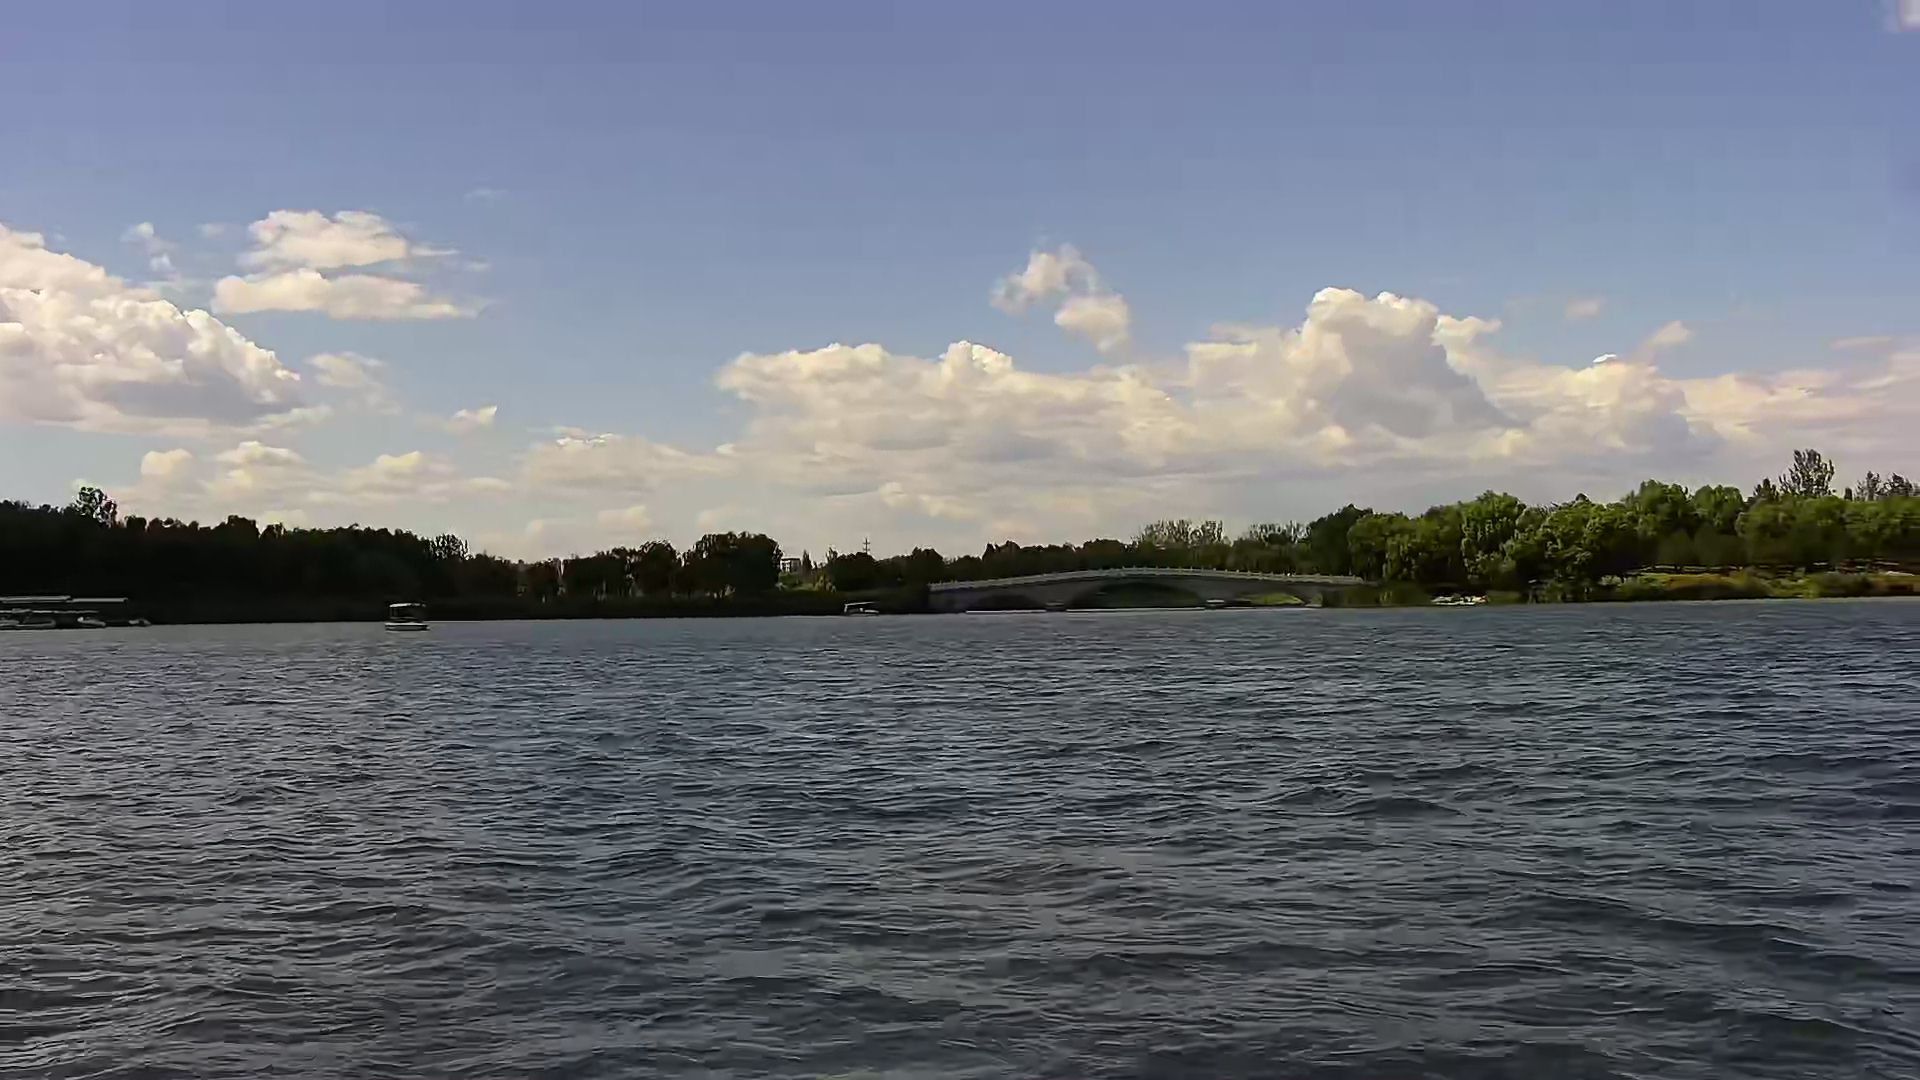boat: (377, 597, 433, 633)
bridge: (928, 566, 1377, 615)
